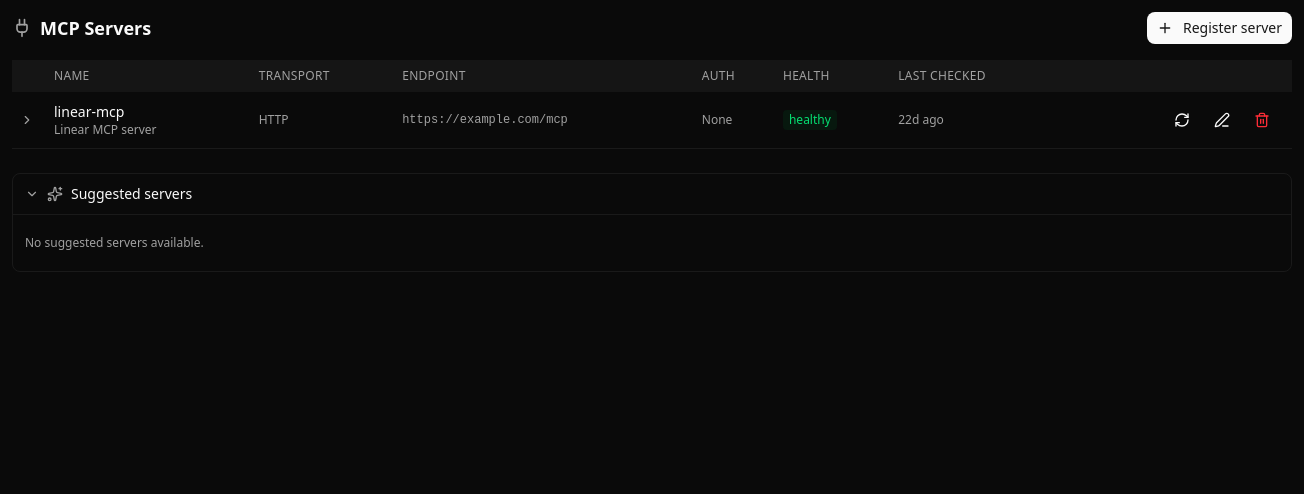
Test: Mcp page › loads grants and invocations when a row is expanded
Click the row with test id "mcp-row-srv-1": (652, 120) [12,92,1292,148]
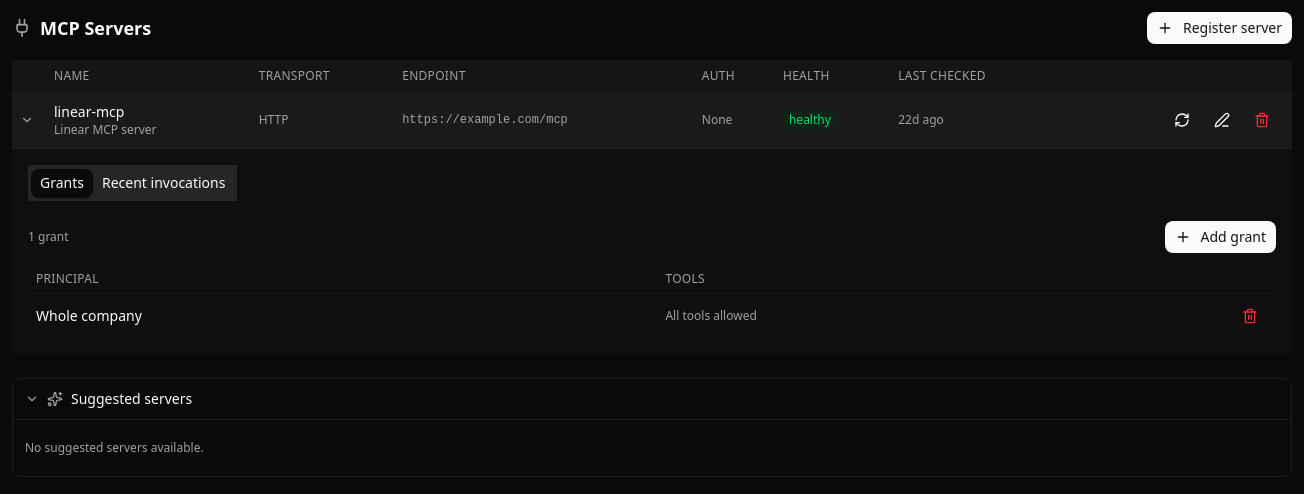
Result: the text "Whole company" is shown at [28,294,658,338]
